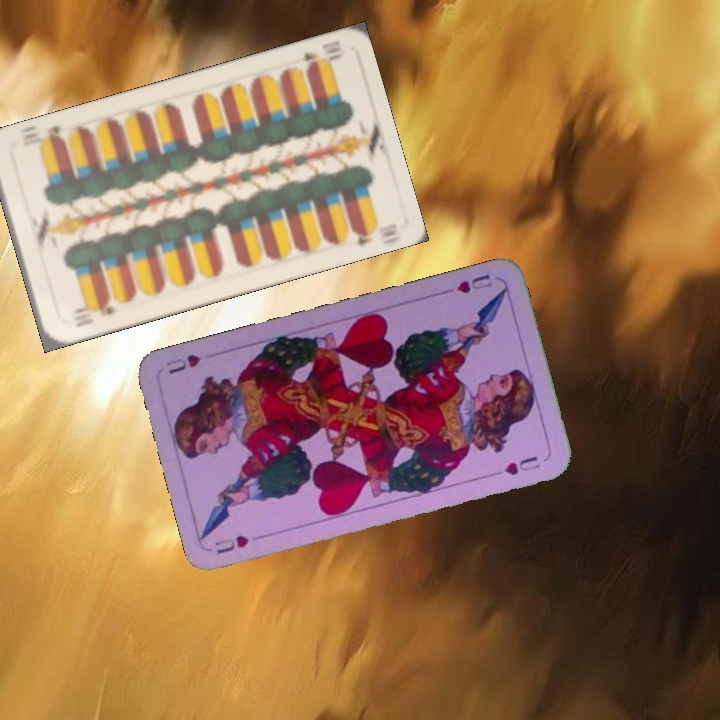E10: (299, 36, 345, 74), (70, 296, 118, 330)
HU: (211, 530, 267, 557), (452, 270, 495, 296)
